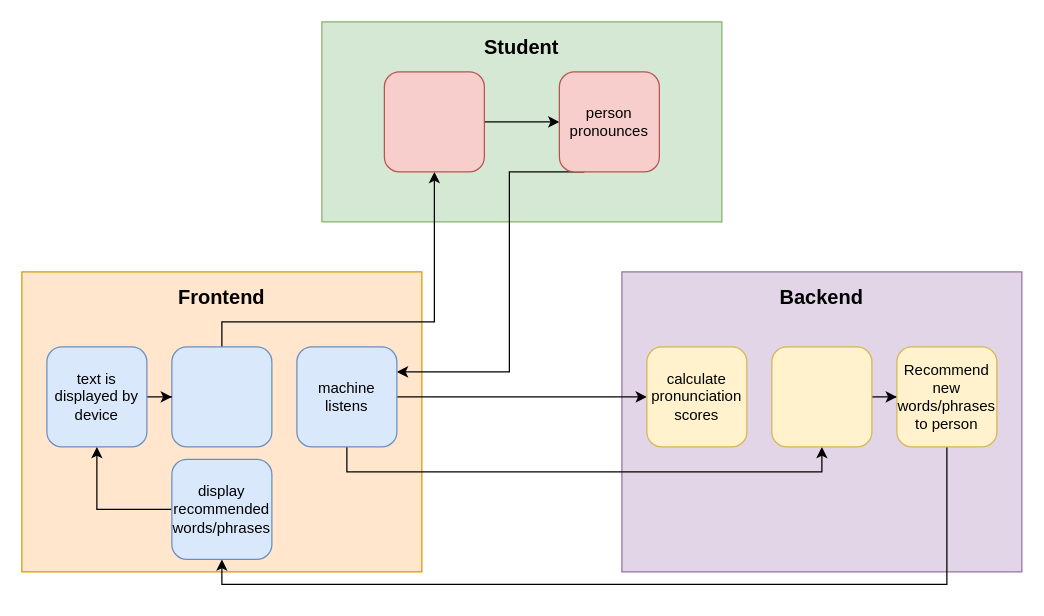
The diagram is 1044 pixels wide and 616 high, and some of its shapes have lost their labels. The centre of each missing label's shape, as x and y in pixels:
"device pronounces the text" goes at point (221, 396).
"person listens" goes at point (433, 121).
"record pronunciation errors" goes at point (821, 396).
